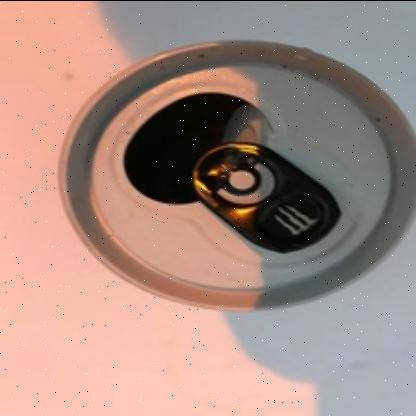Can: (58, 40, 416, 312)
